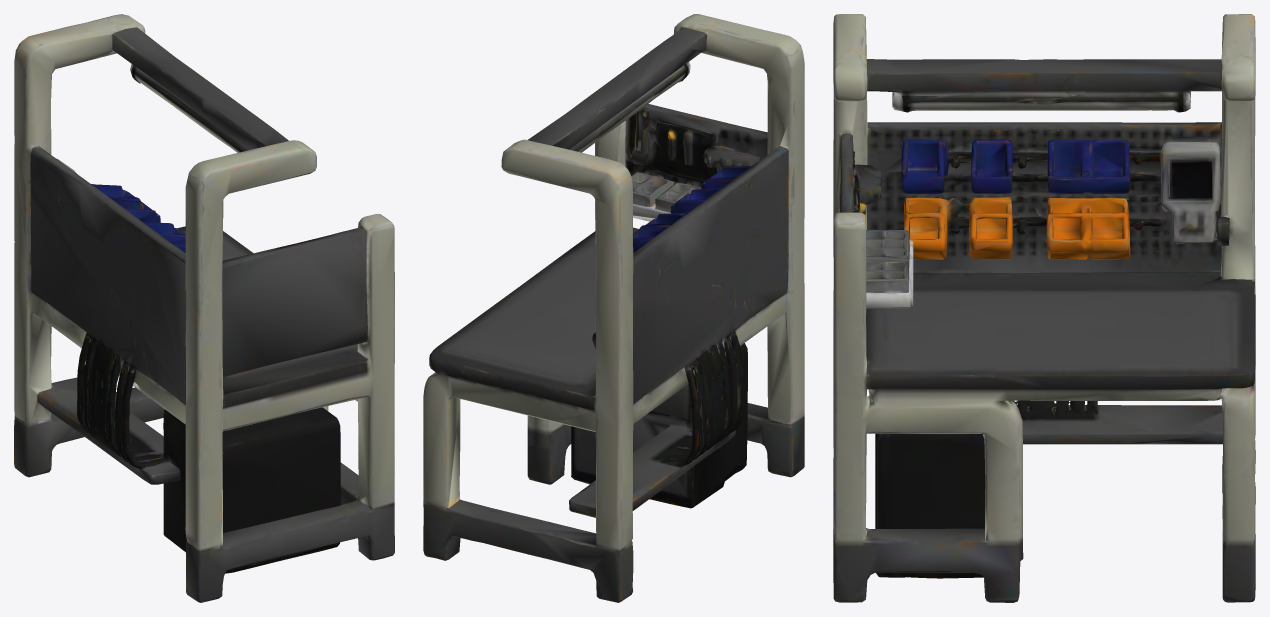
File: assembly_station.glb
The picture shows the model from 3 angles, left to right: view 1: azimuth 30°, elevation 25°; view 2: azimuth 150°, elevation 25°; view 3: azimuth 270°, elevation 25°; orthographic projection. The views are drawn at different scales.
Visible parts, largest first — view 1: geometry_0; view 2: geometry_0; view 3: geometry_0.
Boxes of the visible parts, x1=… form: geometry_0: x1=14, y1=14, x2=394, y2=602; geometry_0: x1=423, y1=14, x2=804, y2=602; geometry_0: x1=833, y1=14, x2=1255, y2=602.
Size of the model in its own units: 0.5 by 1 by 0.7858.
1 material, 1 textured.
